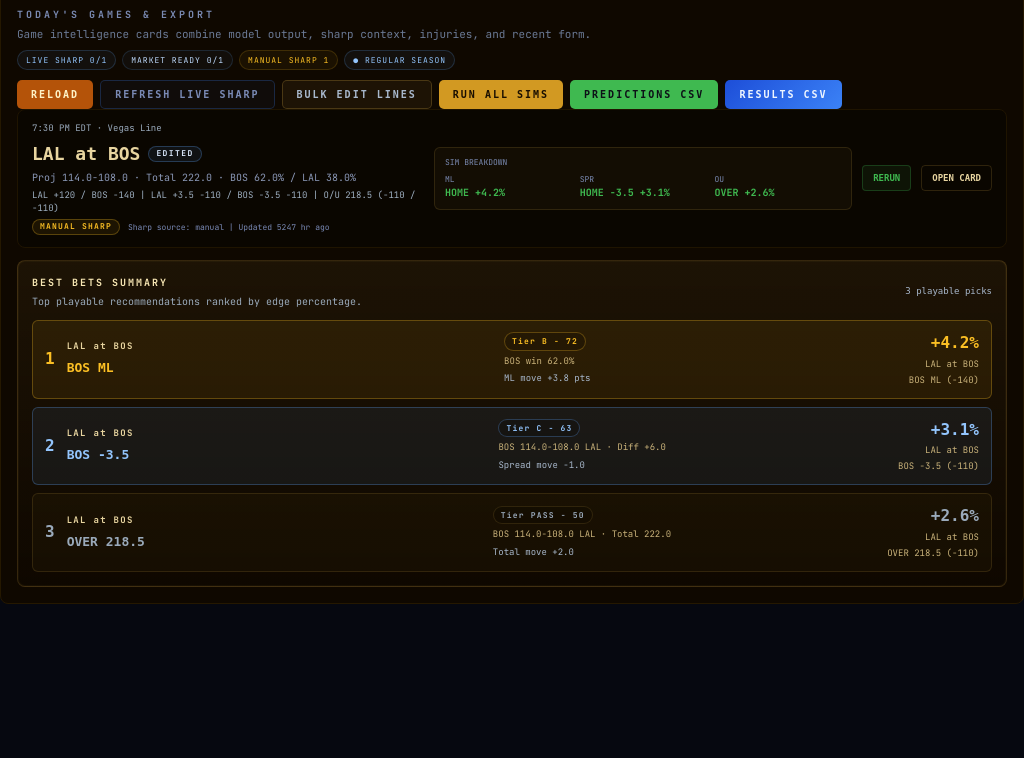
ScheduleAnalysis › renders the redesigned sharp information sections
Click the button "OPEN CARD" at (957, 178), box [921,165,992,191]
(page scrolled)
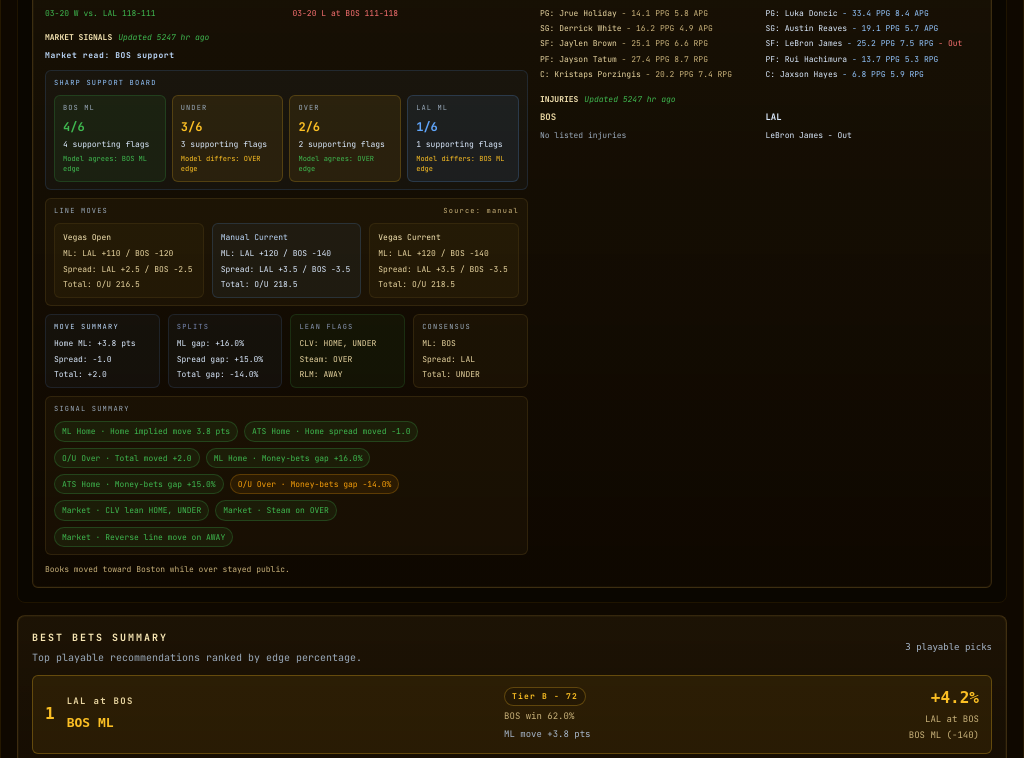
Check: the text "MARKET SIGNALS" is shown, box [45,31,112,44]
Check: the text "INJURIES" is shown, box [540,93,578,105]
Check: the text "SHARP SUPPORT BOARD" is shown, box [54,78,157,87]
